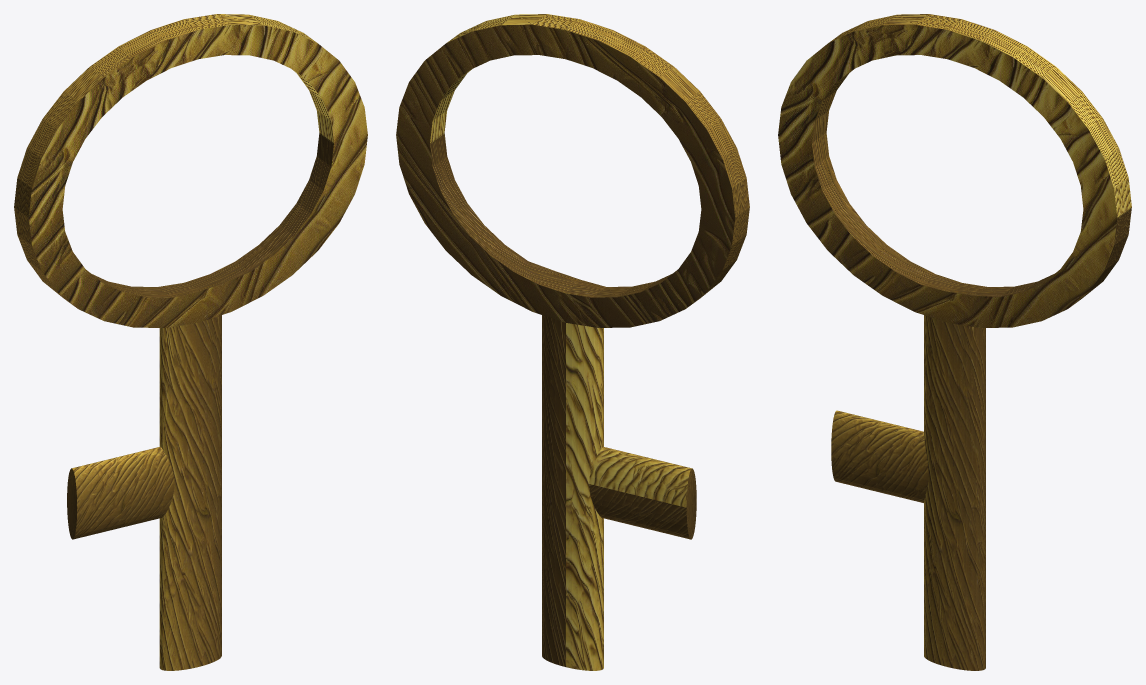
Rendered from key.glb.
The picture shows the model from 3 angles, left to right: view 1: azimuth 30°, elevation 25°; view 2: azimuth 150°, elevation 25°; view 3: azimuth 330°, elevation 25°; orthographic projection.
Parts seen in each view (by area): view 1: Cylinder.001; view 2: Cylinder.001; view 3: Cylinder.001.
Boxes of the visible parts, x1,y1,x2,y2 form: Cylinder.001: (14,14,367,670); Cylinder.001: (396,14,749,670); Cylinder.001: (778,14,1131,670).
Bounding box in the file's own units: 3.14 × 5.64 × 0.2463.
Materials: 1 (1 with a texture image).
